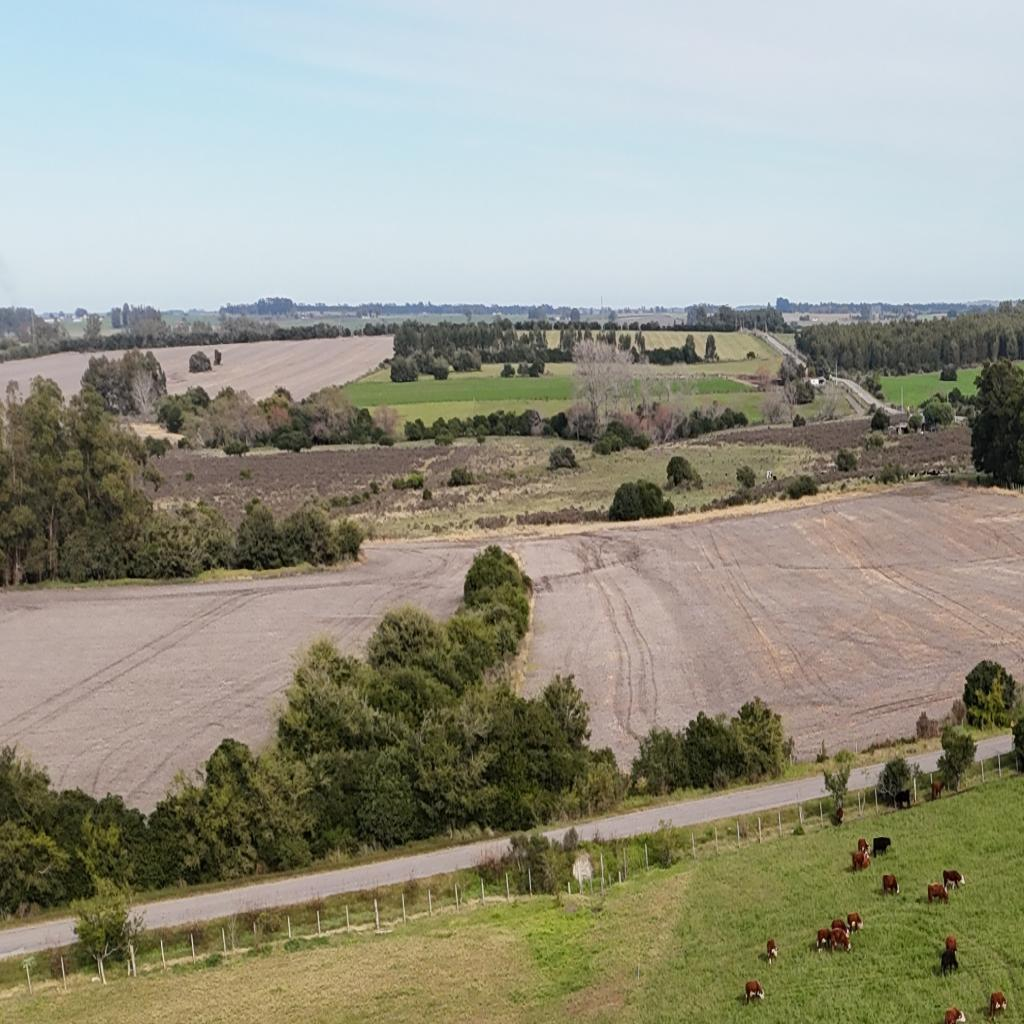cow: (987, 990, 1008, 1020), (940, 948, 960, 977), (830, 927, 851, 954), (927, 883, 950, 906), (745, 980, 764, 1006), (942, 868, 966, 888), (816, 928, 834, 954), (872, 836, 892, 859), (882, 874, 900, 897), (852, 850, 870, 873), (847, 910, 864, 934), (894, 788, 911, 810), (944, 1006, 966, 1023), (930, 780, 946, 800), (944, 934, 958, 954), (832, 915, 848, 932), (767, 939, 778, 958), (858, 838, 870, 854), (836, 805, 844, 825)
